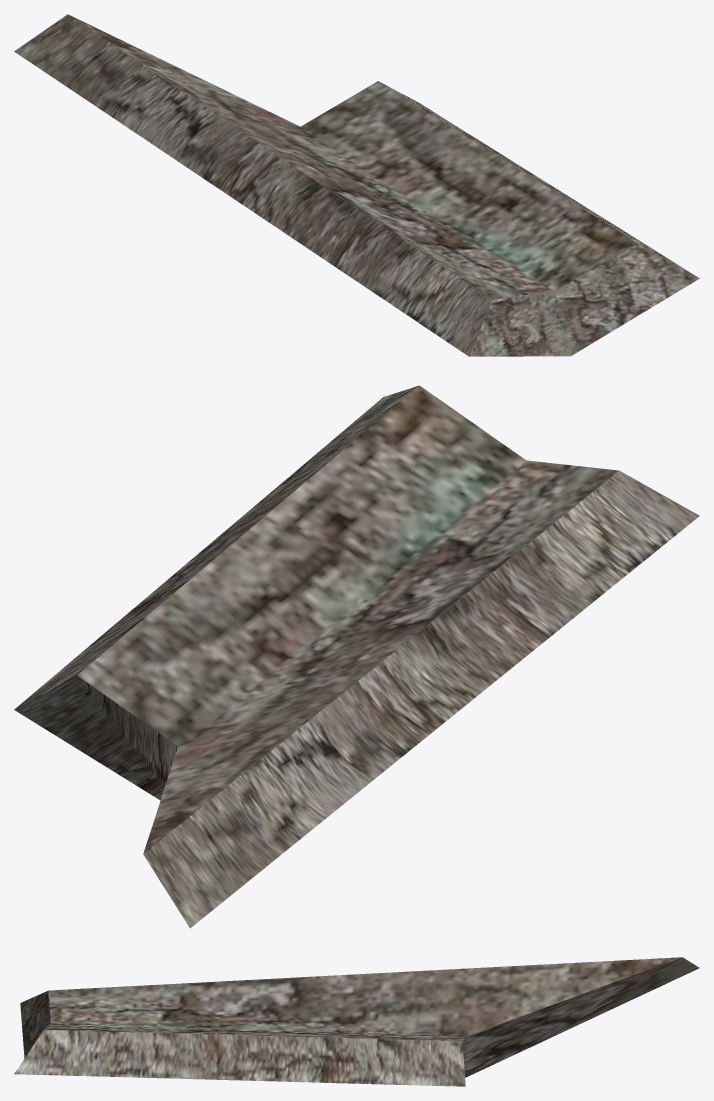
The model's file is tree_firhigh_piece2.glb.
3 renders of one model, top to bottom at view 1: azimuth 30°, elevation 25°; view 2: azimuth 150°, elevation 25°; view 3: azimuth 270°, elevation 25°, orthographic. The views are drawn at different scales.
Size of the model in its own units: 11.95 by 4.28 by 30.97.
Materials: 1 (1 with a texture image).
